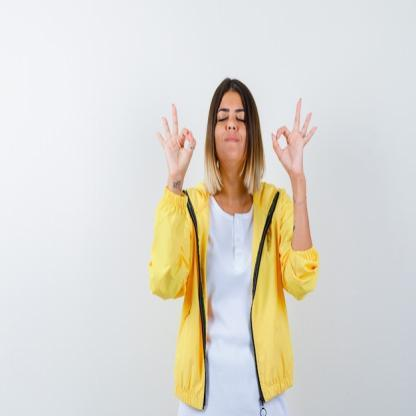ok: (270, 94, 320, 178), (154, 98, 200, 186)
